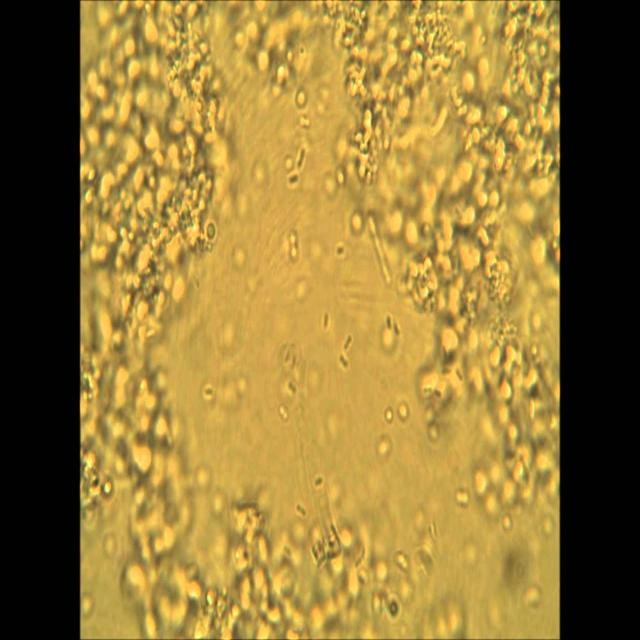Amoeba: (80, 1, 561, 637)
